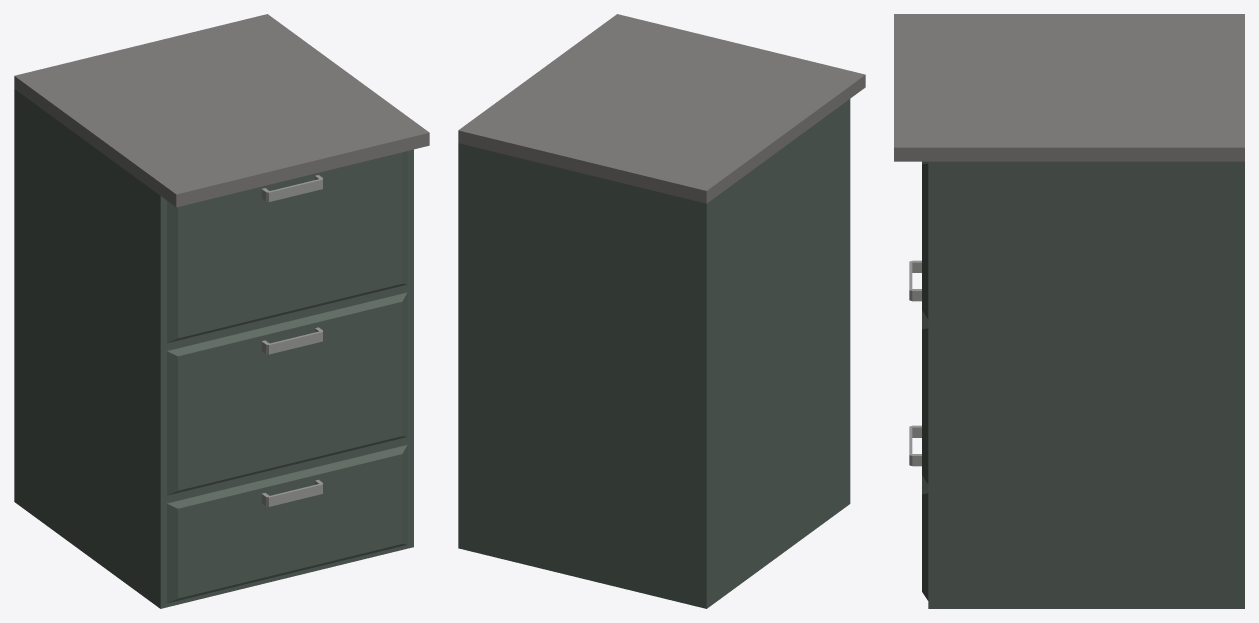
The model's file is Kitchen_3Drawers.glb.
3 renders of one model, left to right at view 1: azimuth 30°, elevation 25°; view 2: azimuth 150°, elevation 25°; view 3: azimuth 270°, elevation 25°, orthographic. The views are drawn at different scales.
Parts seen in each view (by area): view 1: Kitchen_3Drawers; view 2: Kitchen_3Drawers; view 3: Kitchen_3Drawers.
Boxes of the visible parts, <box> form: Kitchen_3Drawers: <box>14,14,429,608</box>; Kitchen_3Drawers: <box>458,14,865,608</box>; Kitchen_3Drawers: <box>894,14,1244,608</box>.
Size of the model in its own units: 0.4943 by 0.7944 by 0.5479.
3 materials, 3 textured.
